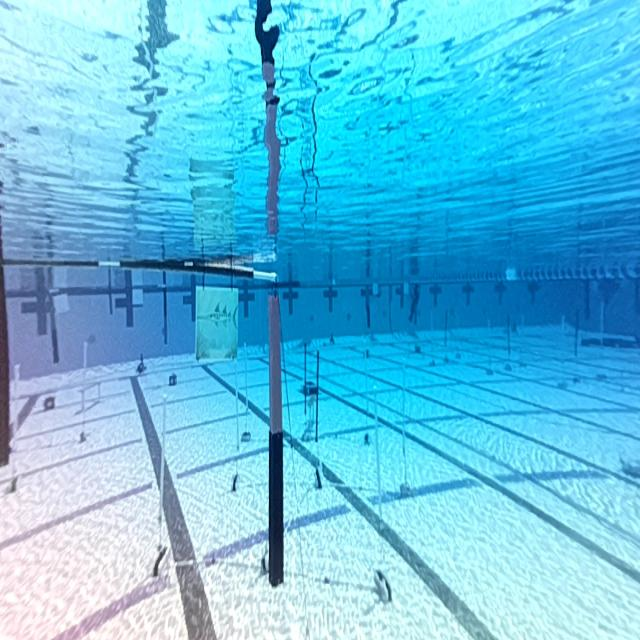pointed_nose: (194, 289, 240, 357)
